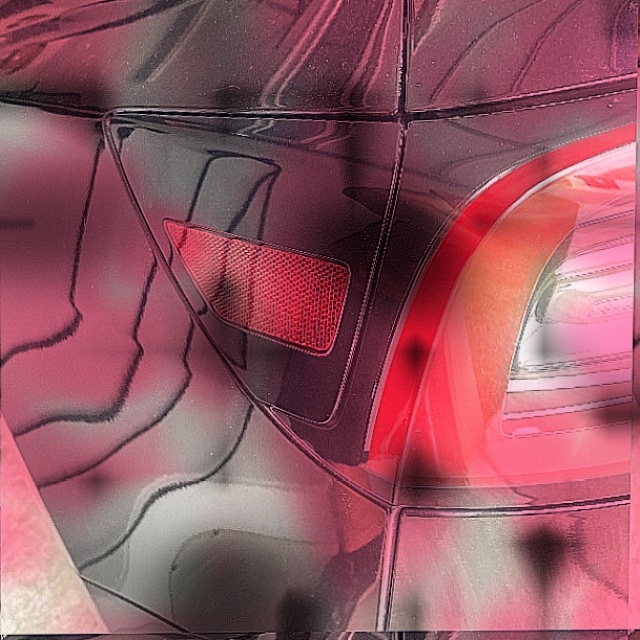reflector: (161, 210, 351, 360)
